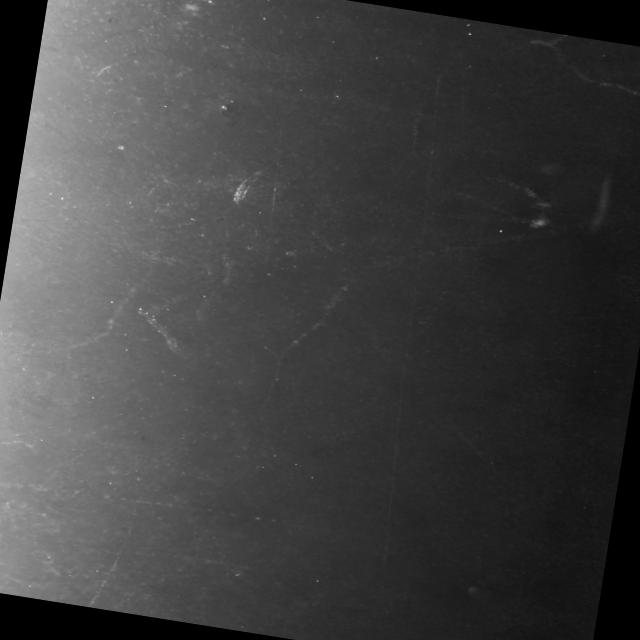beta: (0, 465, 297, 539), (426, 164, 570, 278), (3, 264, 139, 379), (256, 272, 350, 420), (74, 0, 250, 54), (518, 28, 640, 104), (68, 517, 136, 613), (422, 408, 502, 476), (401, 110, 426, 179), (0, 431, 38, 469)
